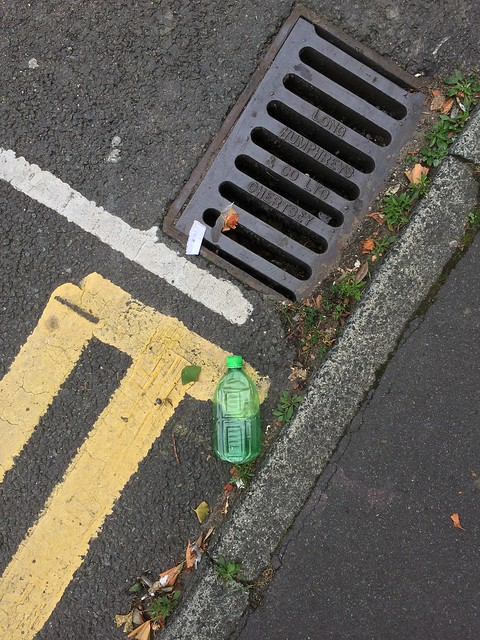bottle: (198, 348, 270, 473)
